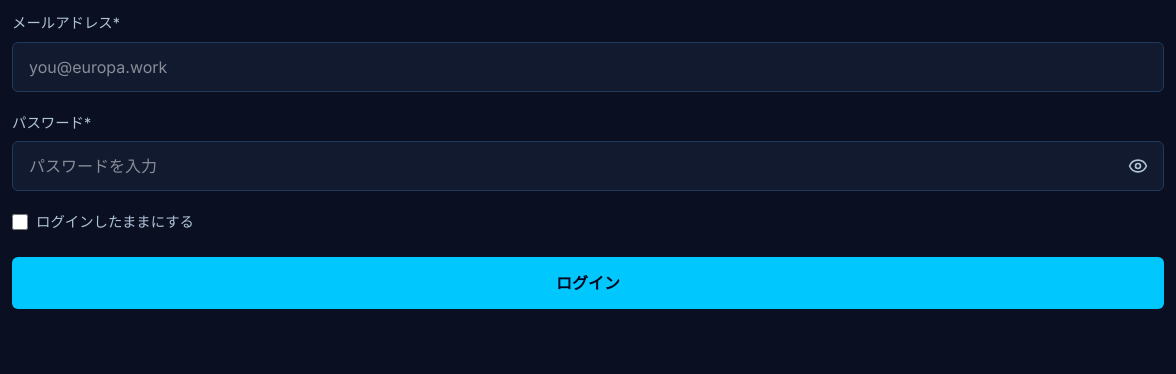
Scenario: LoginForm › Form Submission › should handle validation errors from API
The width and height of the screenshot is (1176, 374).
In the field labelled "メールアドレス*": (588, 67) [12,42,1164,92], type "test@example.com"
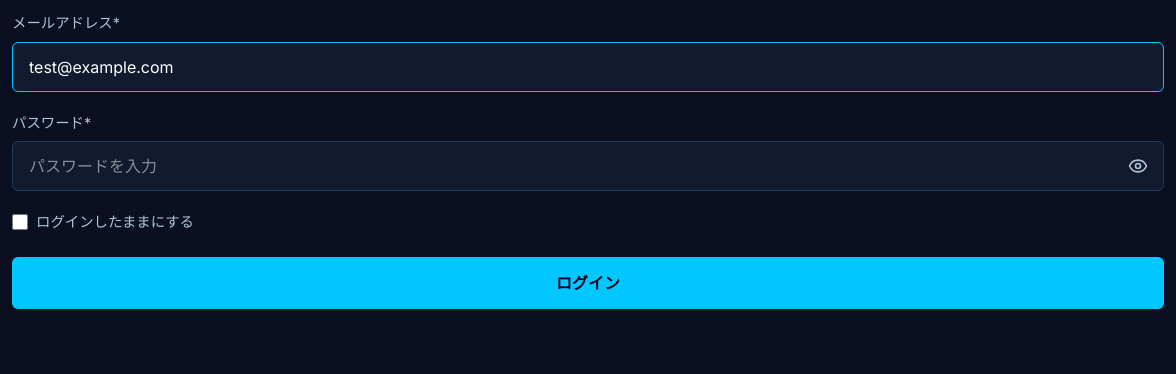
In the password field labelled "パスワード*": (588, 166) [12,141,1164,191], type "password123"
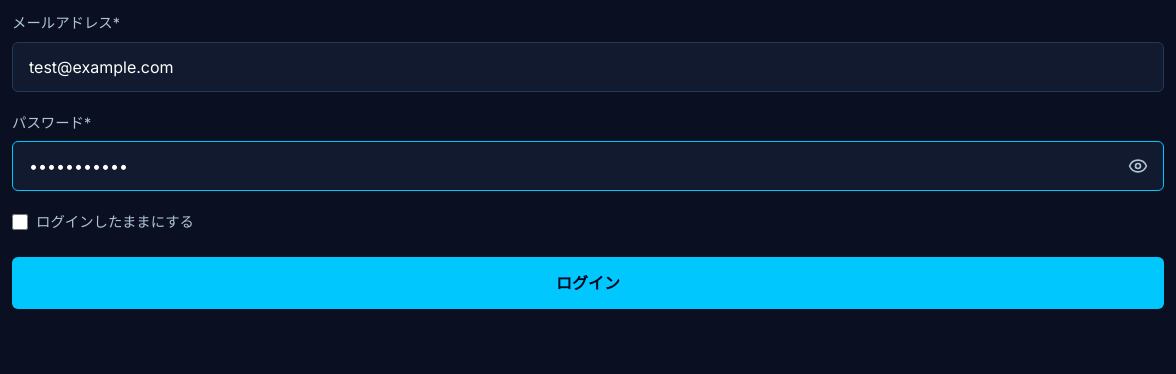
Click the button "ログイン": (588, 283) [12,257,1164,309]
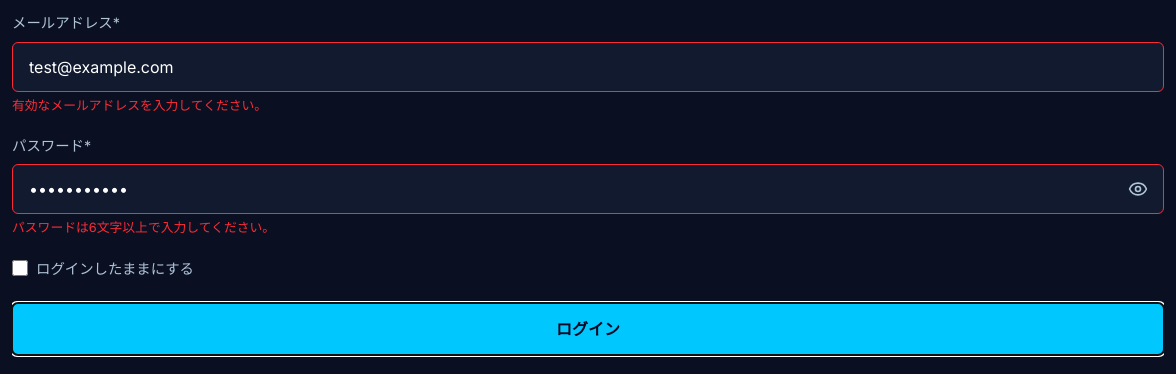
Now the text "有効なメールアドレスを入力してください。" is shown, box [12,98,267,113]
